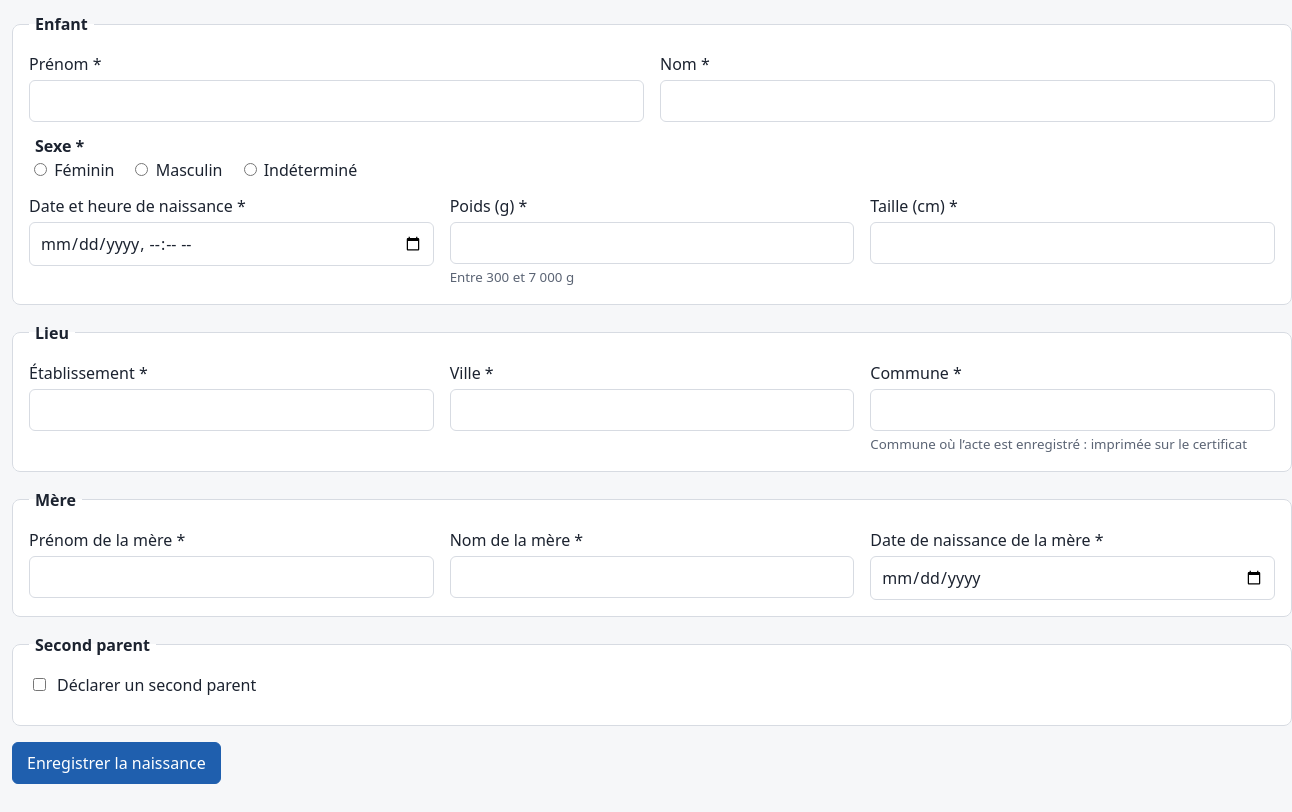
<NaissanceForm /> › affiche les champs du second parent uniquement si la case est cochée
expect the field labelled "Prénom du second parent" is not shown: met
Click the checkbox labelled "Déclarer un second parent".
click(40, 685)  # box top-left (33, 678), bottom-right (46, 692)
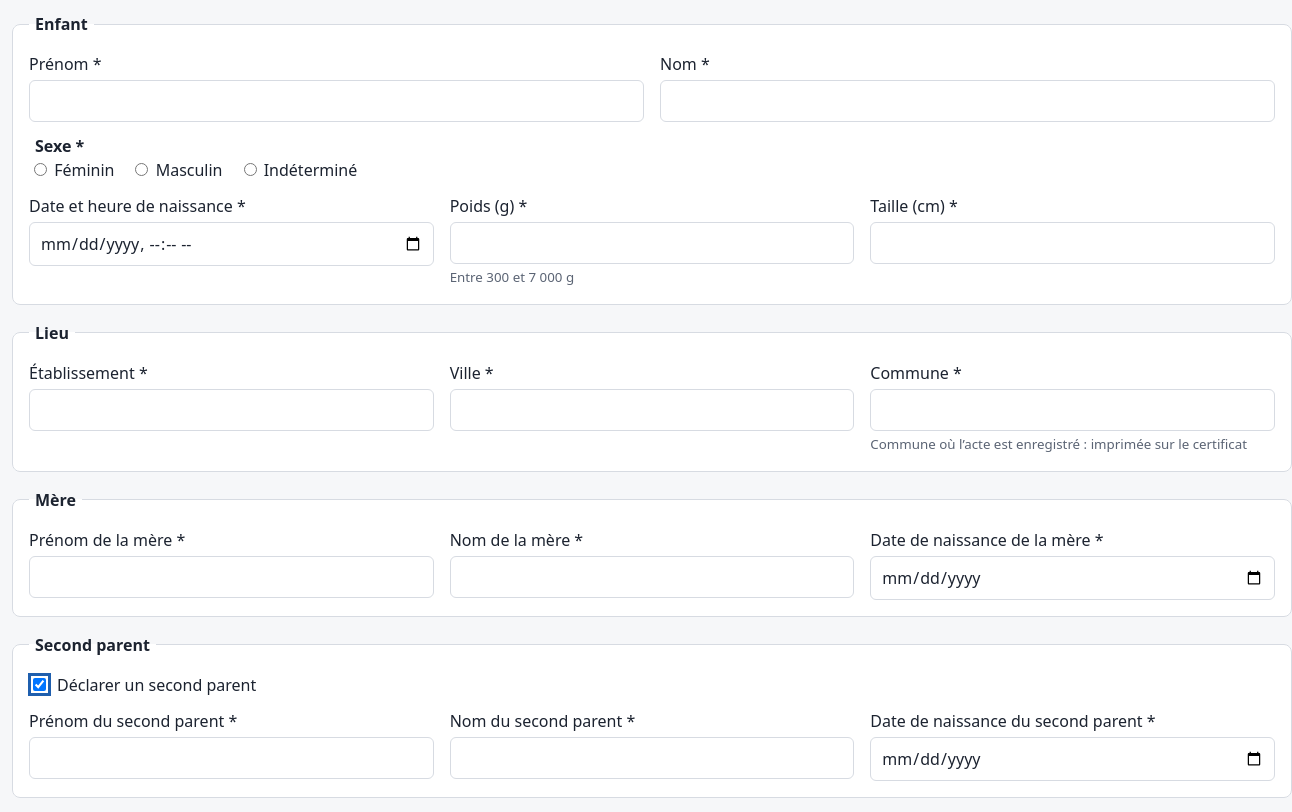
expect the field labelled "Prénom du second parent *" is shown: met, box top-left (29, 737), bottom-right (434, 779)
